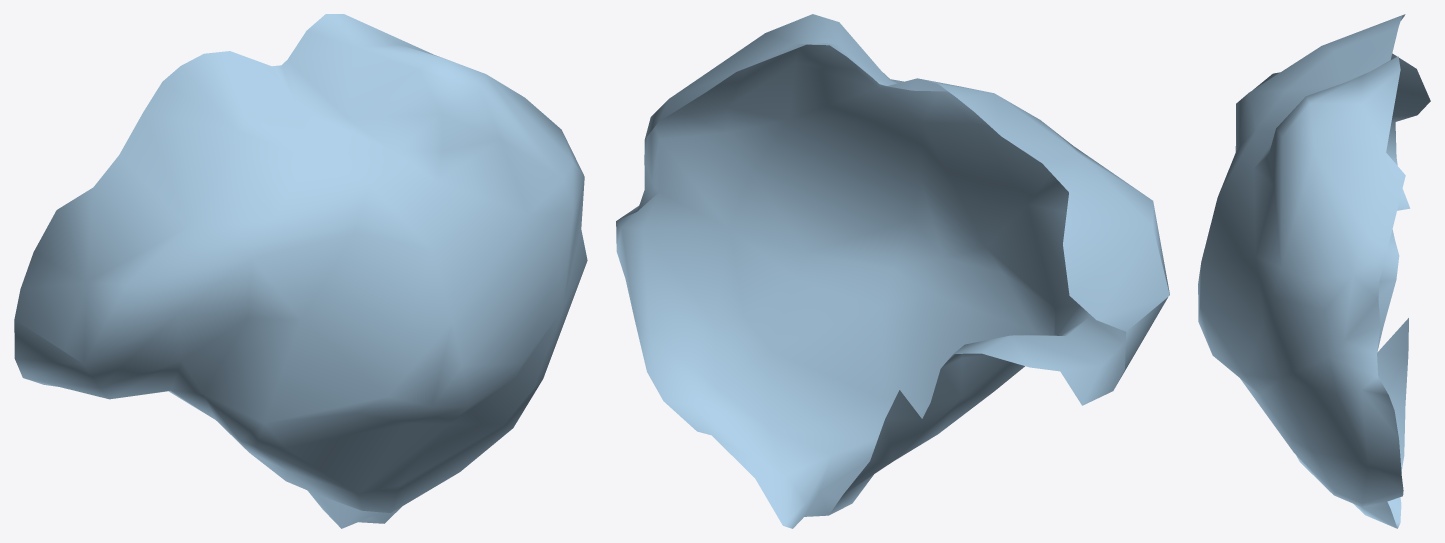
Rendered from RS-4W_ice01MID.fbx.
3 renders of one model, left to right at view 1: azimuth 30°, elevation 25°; view 2: azimuth 150°, elevation 25°; view 3: azimuth 270°, elevation 25°, orthographic. The views are drawn at different scales.
Visible parts, largest first — view 1: RS-4W_ice01MID.001; view 2: RS-4W_ice01MID.001; view 3: RS-4W_ice01MID.001.
Boxes of the visible parts, x1,y1,x2,y2 form: RS-4W_ice01MID.001: [14, 14, 587, 528]; RS-4W_ice01MID.001: [616, 14, 1169, 528]; RS-4W_ice01MID.001: [1198, 14, 1430, 528].
Size of the model in its own units: 1599 by 1442 by 672.
